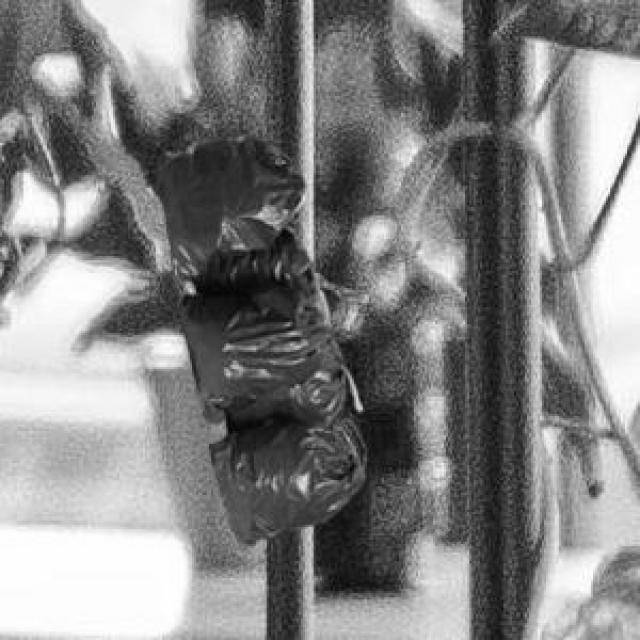miscellaneous trash: (153, 132, 361, 546)
